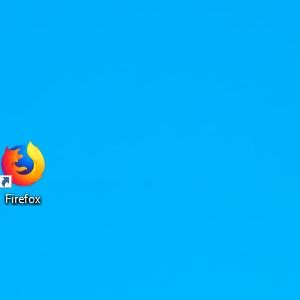firefox: (1, 139, 46, 189)
